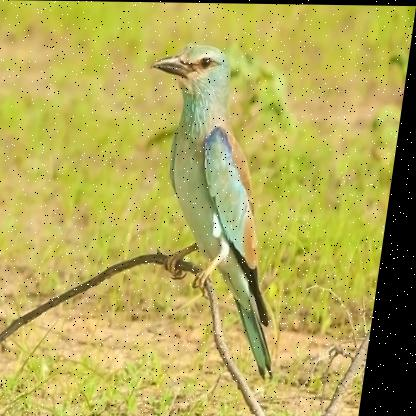Burung: (119, 41, 322, 377)
